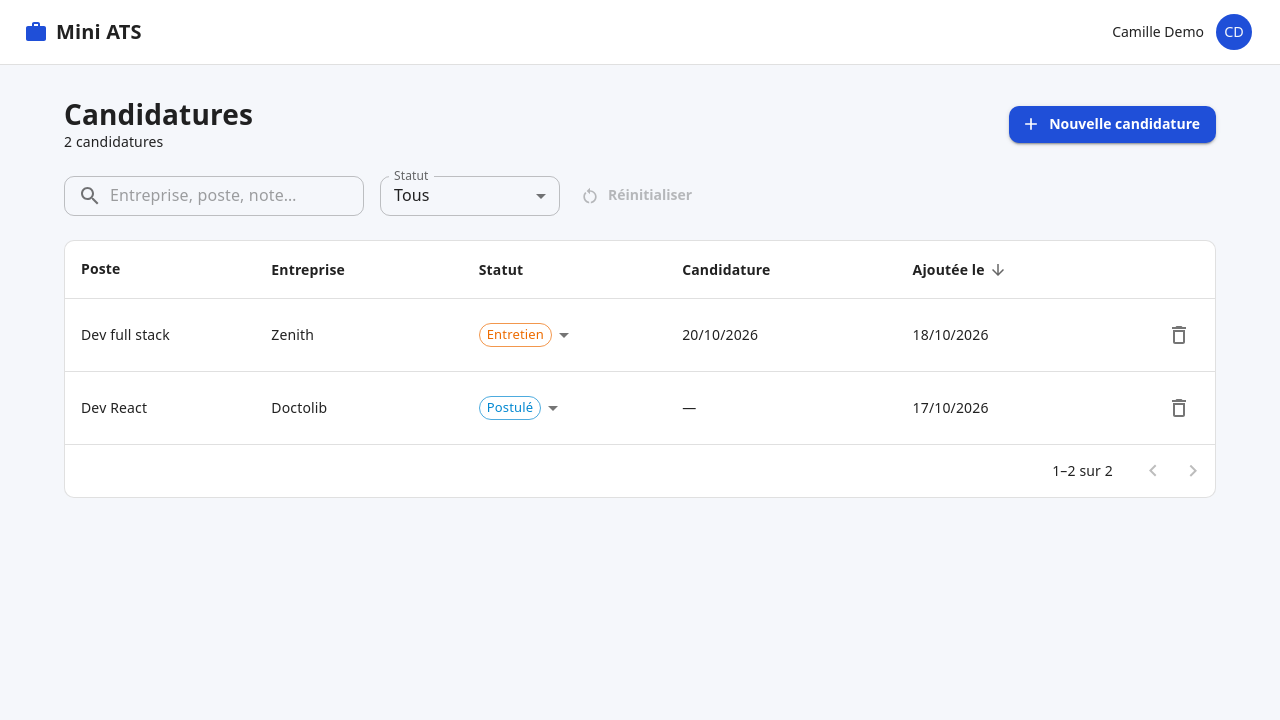
it: parcours applicatif › supprime après confirmation
The width and height of the screenshot is (1280, 720).
Click the button named "Supprimer Dev React chez Doctolib" at (1179, 408), box [1159,388,1199,428]
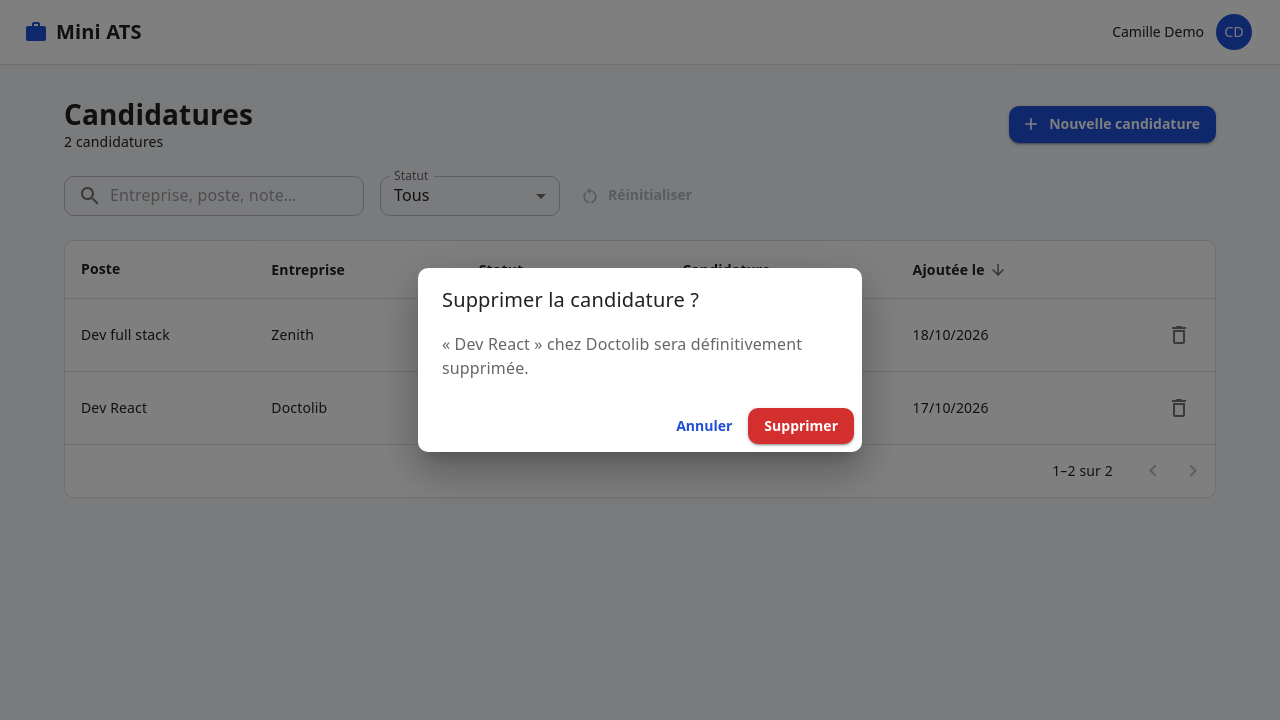
Click the button "Supprimer" at (801, 426), box [748,408,854,444]
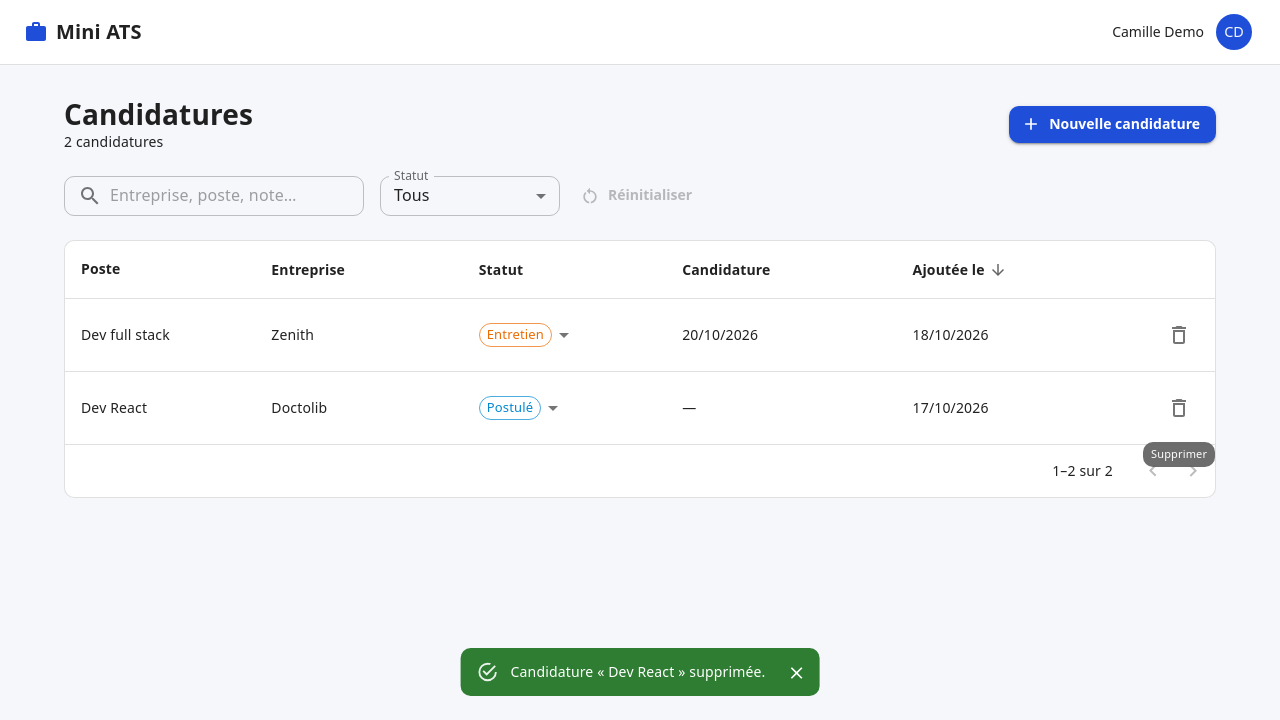
Result: the text "Candidature « Dev React » supprimée." is shown at [511,662,765,681]
